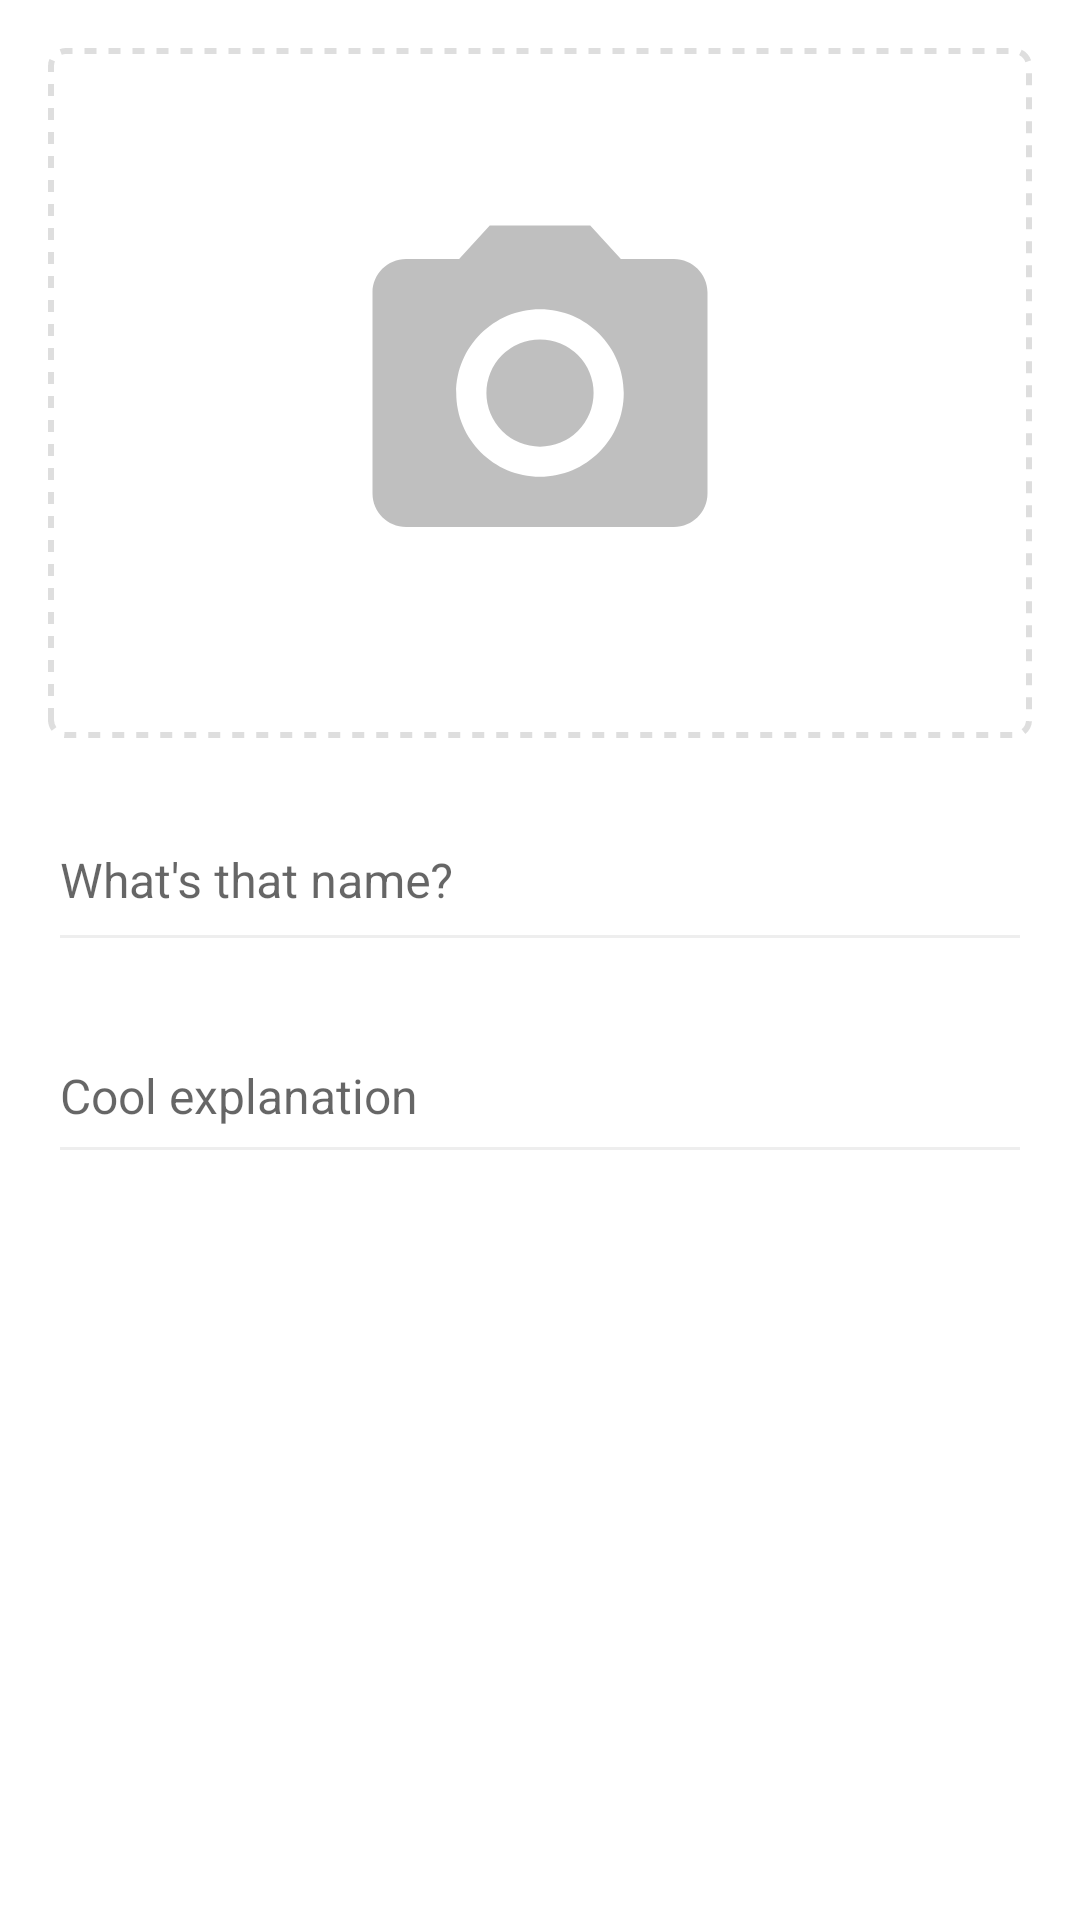

Where icons sit on this 1080px x 1920px app screen, as (x1, y1, x2, y2):
photo camera: (372, 225, 708, 527)
